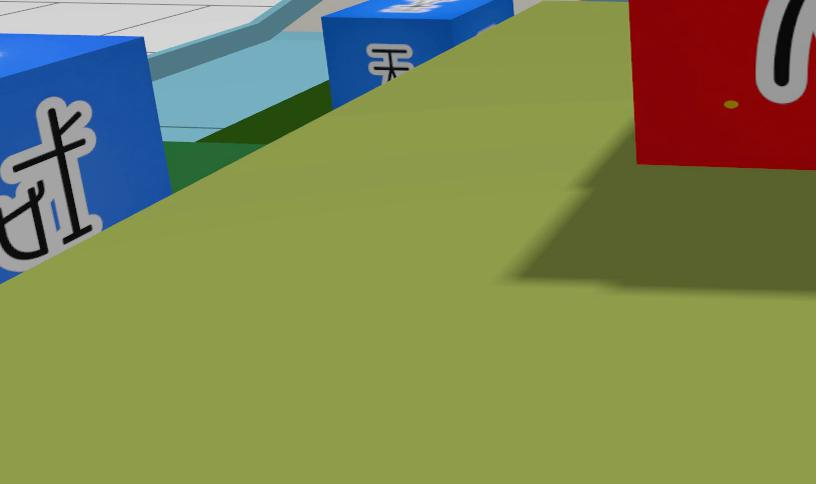KFS_FAKE: (627, 0, 816, 170), (755, 0, 816, 103)
KFS_REAL: (0, 33, 171, 282), (321, 0, 514, 107), (0, 97, 102, 269), (366, 45, 413, 83)
